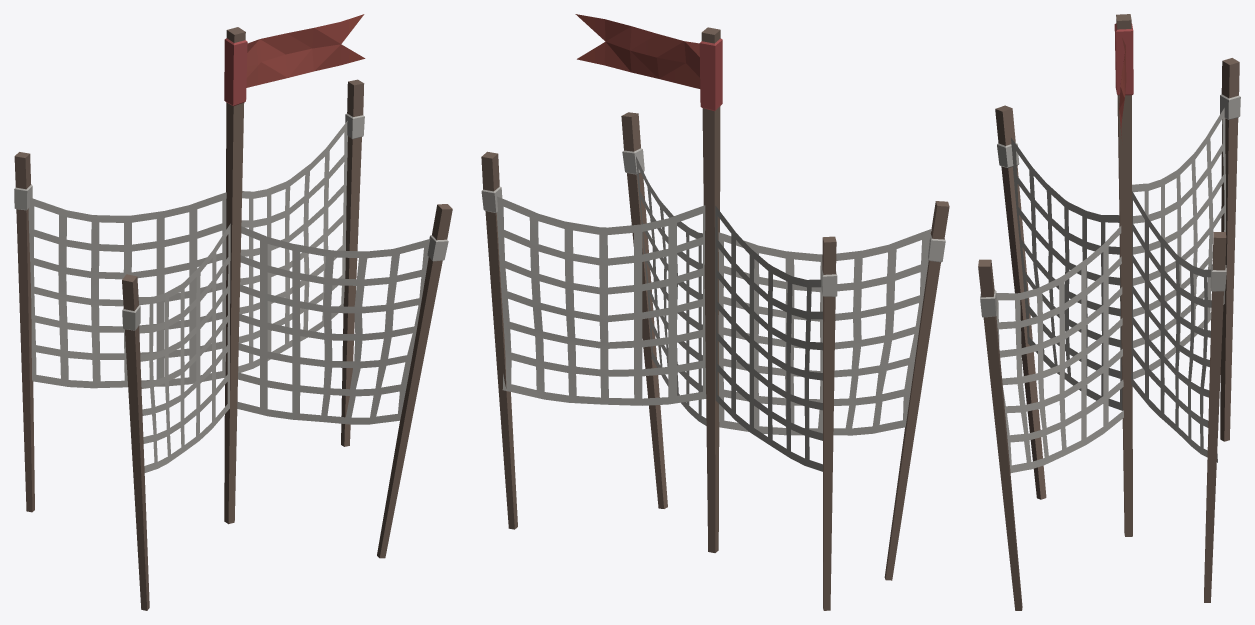
The model's file is fishingSpot.fbx.
The picture shows the model from 3 angles, left to right: view 1: azimuth 30°, elevation 25°; view 2: azimuth 150°, elevation 25°; view 3: azimuth 270°, elevation 25°; orthographic projection. The views are drawn at different scales.
Parts seen in each view (by area): view 1: fishingSpot, fishingFlag; view 2: fishingSpot, fishingFlag; view 3: fishingSpot, fishingFlag.
Boxes of the visible parts, <box> form: fishingSpot: <box>14,27,452,610</box>; fishingFlag: <box>246,14,365,87</box>; fishingSpot: <box>481,27,949,610</box>; fishingFlag: <box>575,14,700,88</box>; fishingSpot: <box>978,14,1240,610</box>; fishingFlag: <box>1119,38,1126,138</box>.
Size of the model in its own units: 2.31 by 3.34 by 1.45.
